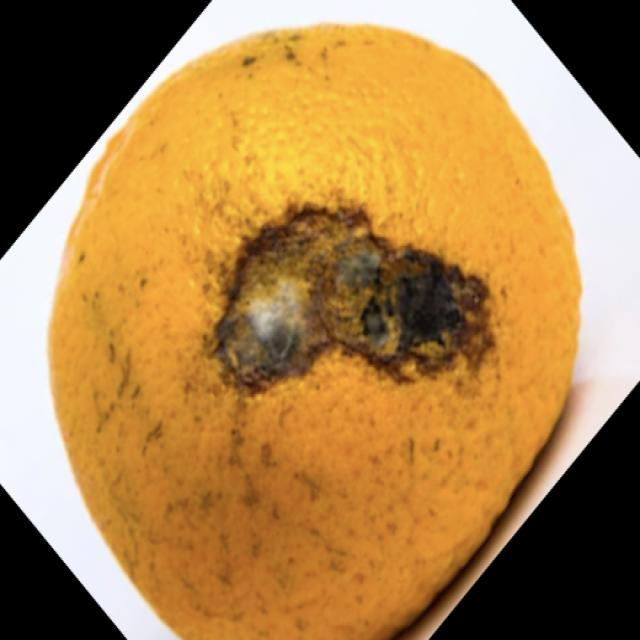sedikit_busuk: (55, 31, 567, 638)
